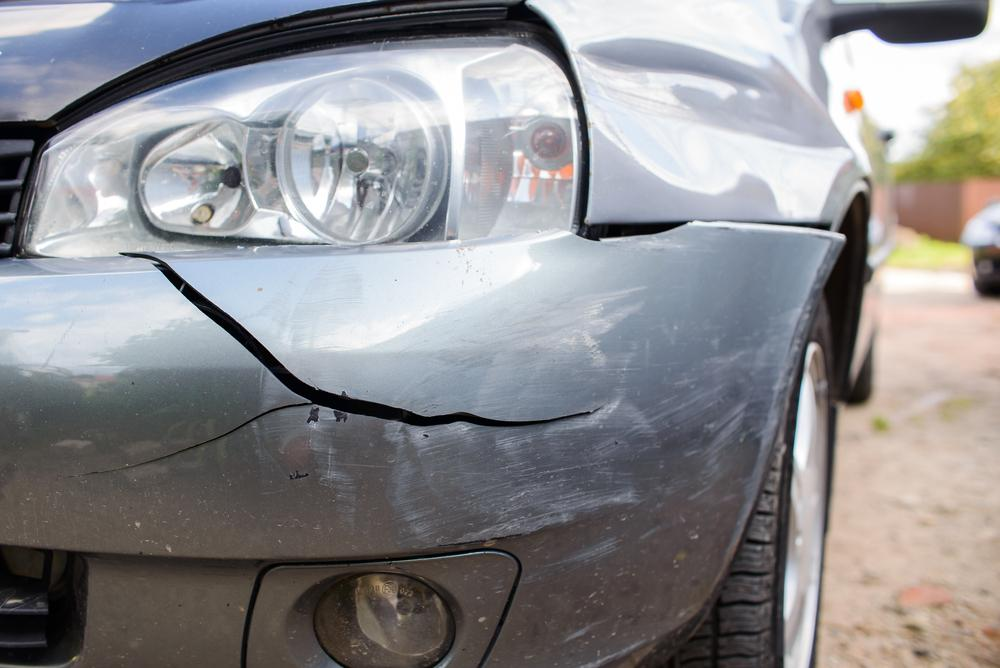crack: (57, 252, 607, 481)
dent: (571, 38, 856, 218)
scratch: (252, 278, 818, 668)
